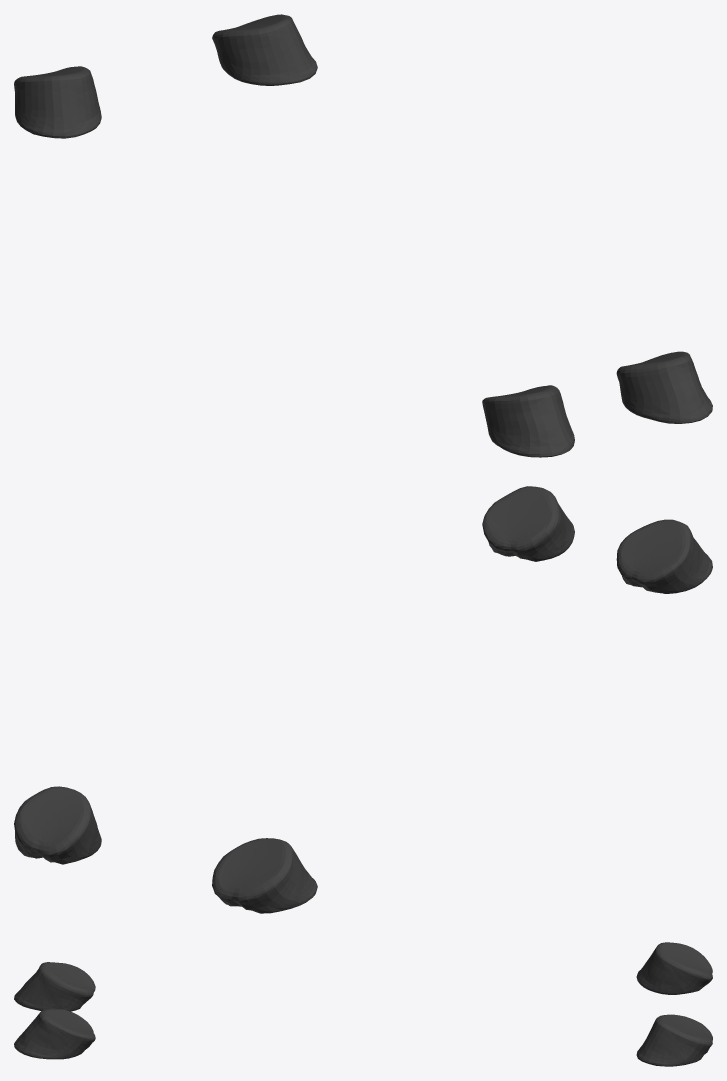
File: horse_HOOVES.glb
3 renders of one model, top to bottom at view 1: azimuth 30°, elevation 25°; view 2: azimuth 150°, elevation 25°; view 3: azimuth 270°, elevation 25°, orthographic. The views are drawn at different scales.
Parts seen in each view (by area): view 1: horse_HOOVES; view 2: horse_HOOVES; view 3: horse_HOOVES.
Part boxes in pixels (x1=…): horse_HOOVES: x1=14, y1=14, x2=712, y2=457; horse_HOOVES: x1=14, y1=486, x2=712, y2=913; horse_HOOVES: x1=14, y1=942, x2=712, y2=1066.
Bounding box in the file's own units: 46.83 × 9.53 × 139.
1 material, 1 textured.
